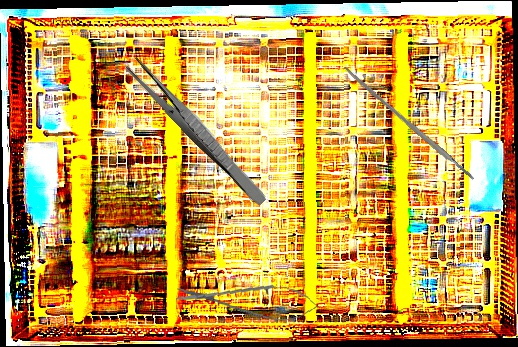Dressing Forceps: (123, 55, 273, 208)
Micro Scissor: (174, 275, 319, 325)
Scalpel Handle: (341, 64, 476, 183)
